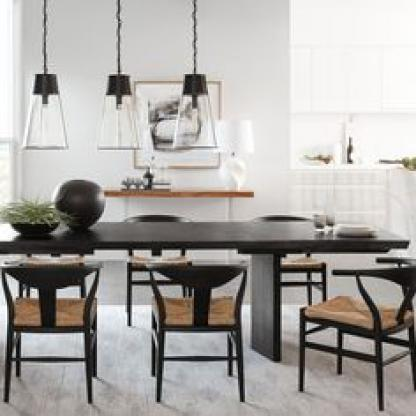table: (0, 211, 412, 364)
